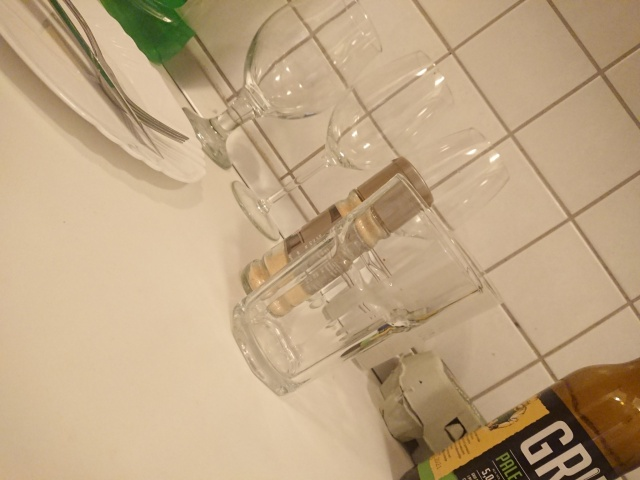Kotanyi Garlic Granules 70g: (239, 153, 437, 323)
